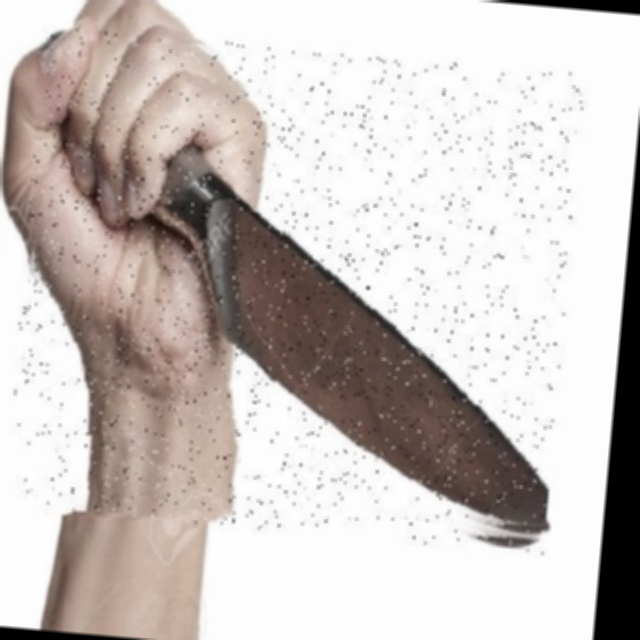Sharp-Object: (2, 26, 586, 554)
